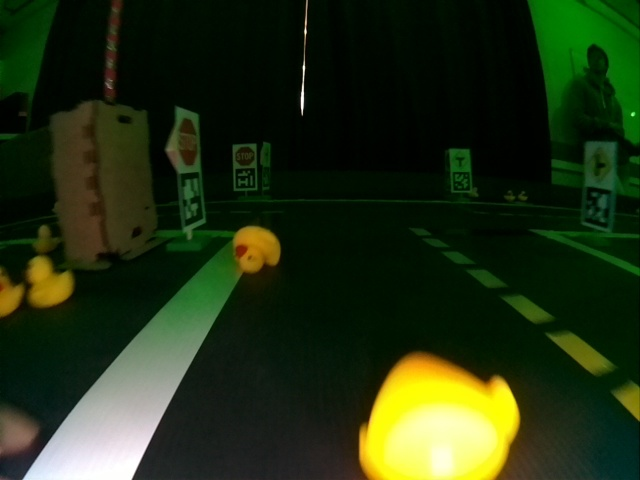Duckie: (359, 353, 519, 478), (233, 226, 280, 272), (26, 264, 72, 306), (2, 273, 24, 315), (33, 226, 59, 251), (506, 190, 515, 199), (519, 191, 528, 199)
Intersection sign: (588, 145, 611, 183), (452, 151, 470, 170)
QR code: (178, 175, 206, 229), (582, 189, 612, 229), (235, 170, 255, 191), (451, 172, 472, 191), (261, 167, 271, 189)
Stop sign: (176, 114, 199, 166), (236, 148, 254, 166)
